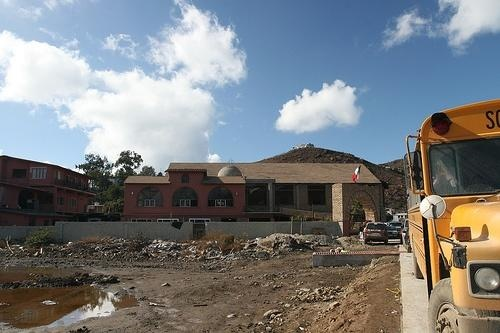bus: (407, 99, 500, 333)
car: (365, 221, 388, 248)
